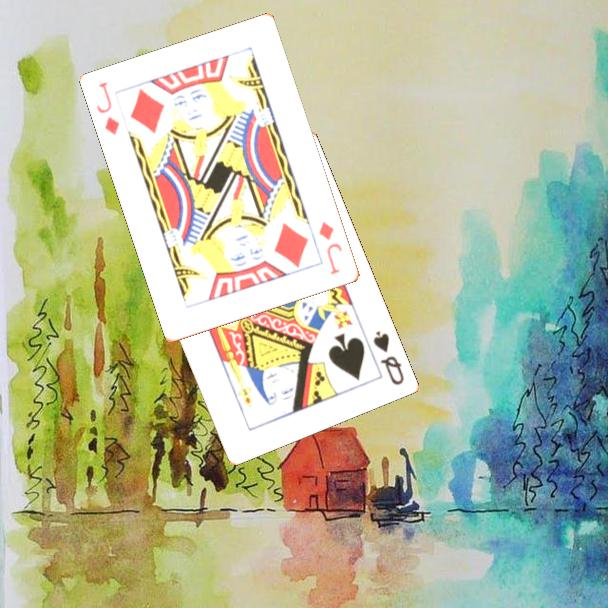d11: (93, 79, 123, 138), (316, 218, 345, 278)
s12: (369, 327, 407, 388)
